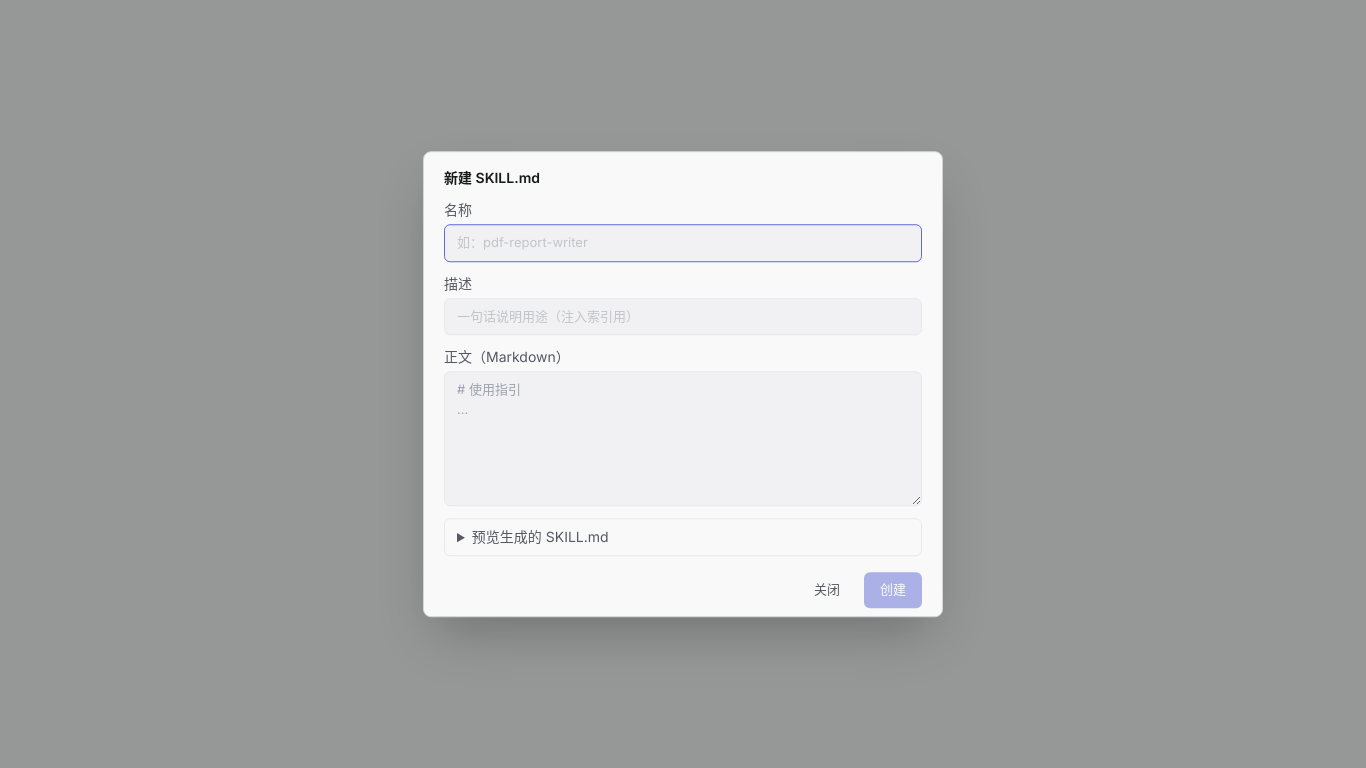
SkillCreateDialog › 填齐后提交调 createSkill，传参精确且成功提示保留展示
The image size is (1366, 768).
Step 1. Type "New One" into the field labelled "名称" → (683, 243), box [444,224,922,262]
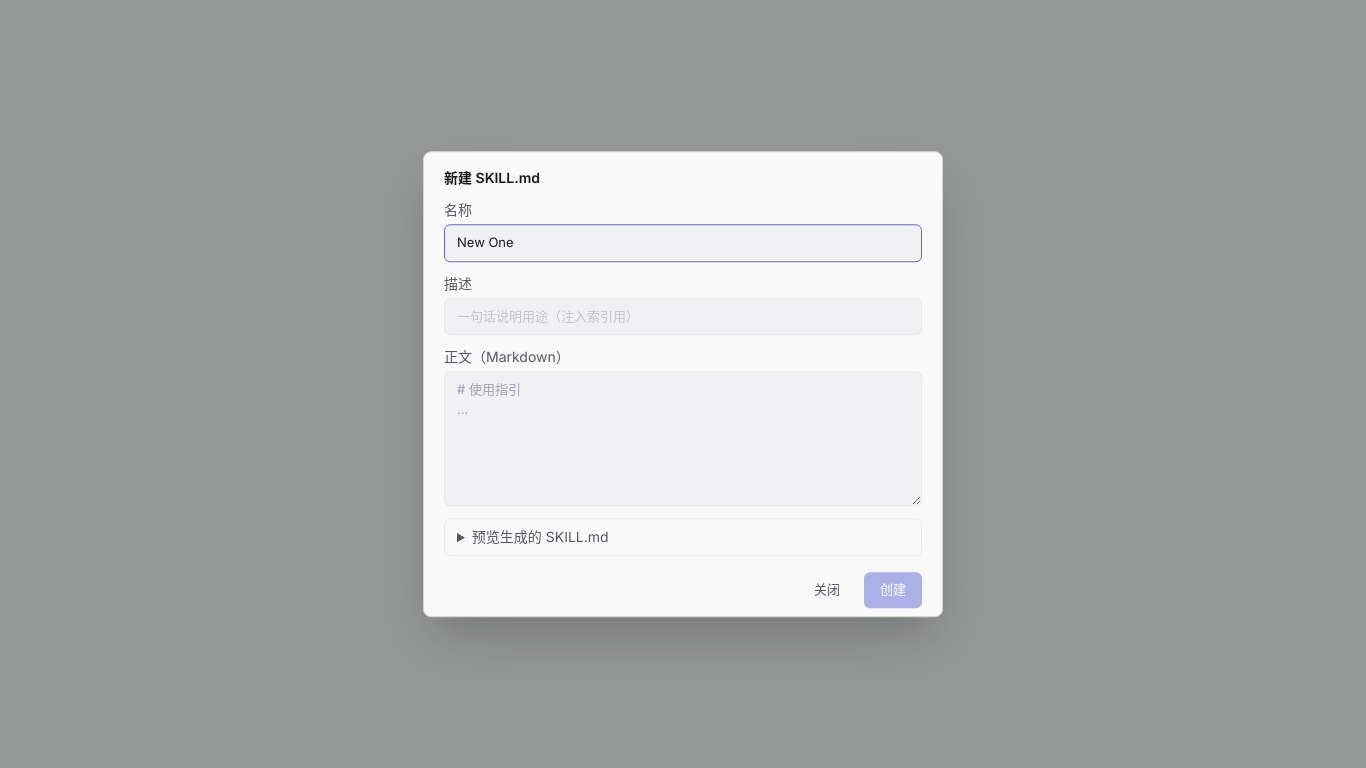
Step 2. Type "d" into the field labelled "描述" → (683, 317), box [444,298,922,335]
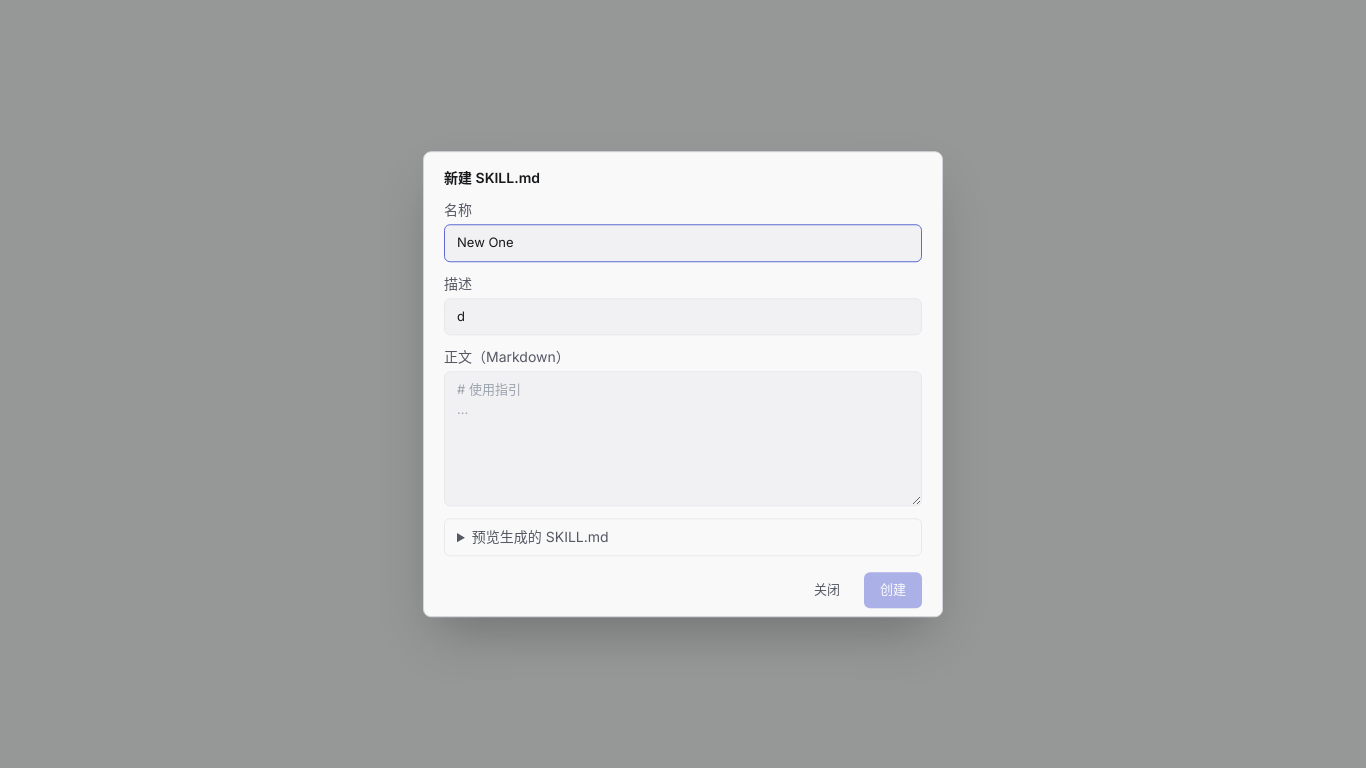
Step 3. Type "# 你好" into the text box labelled "正文" → (683, 439), box [444,371,922,506]
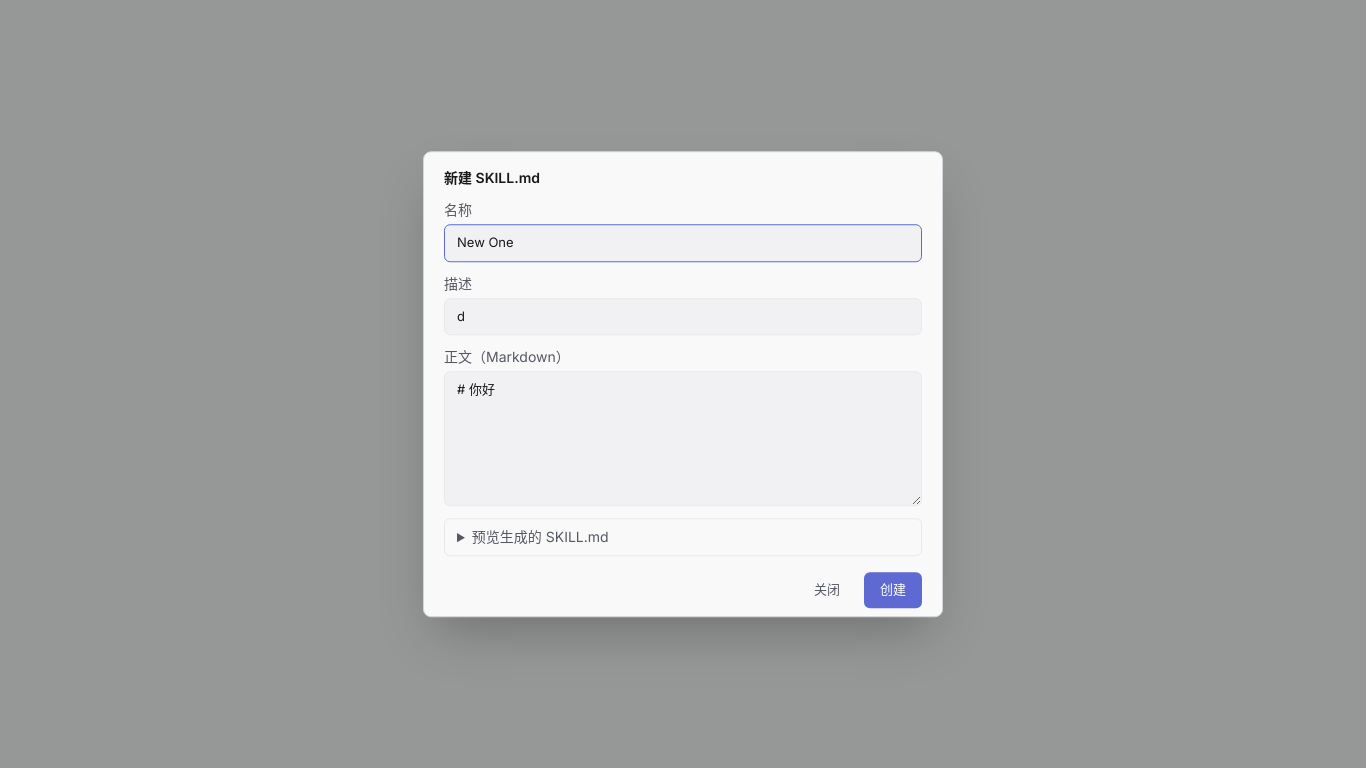
Step 4. Click the button "创建" → (893, 590), box [864,572,922,608]
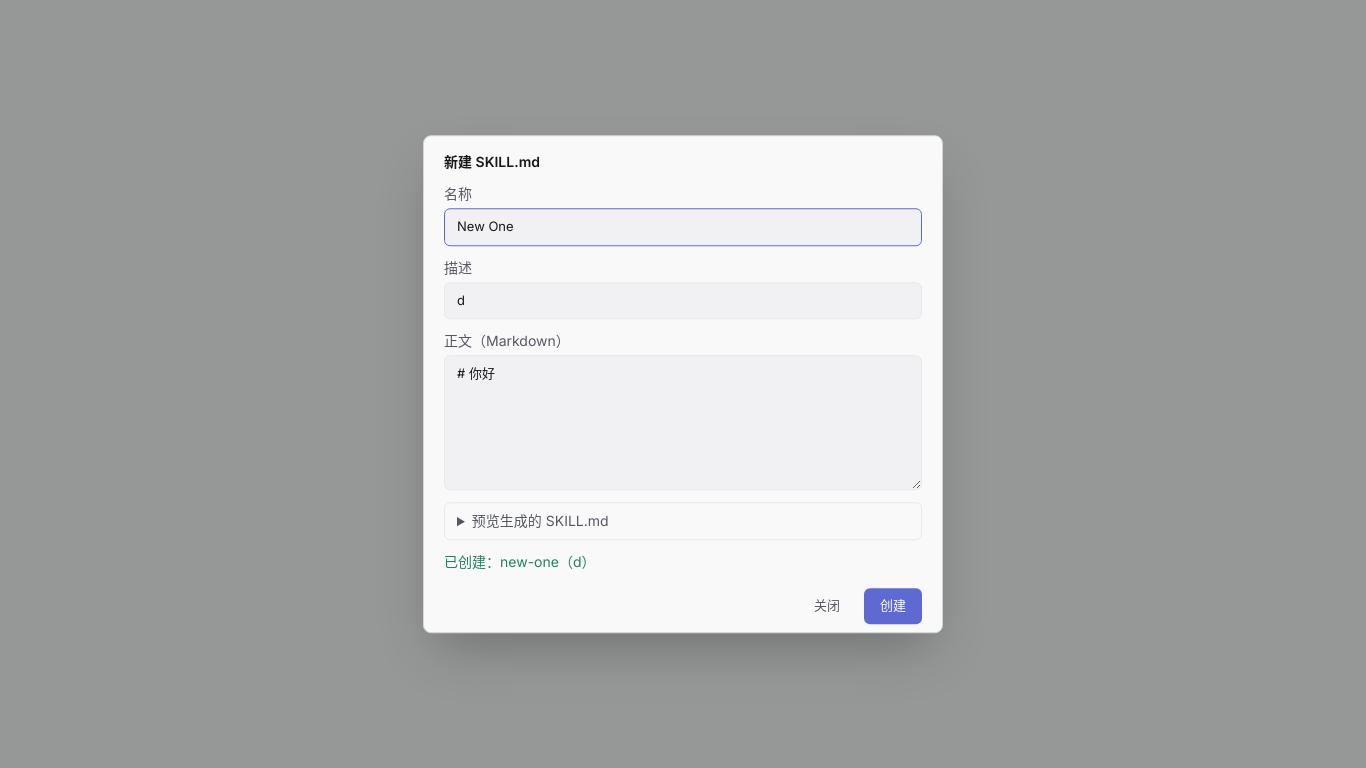
Now the text "已创建：new-one（d）" is shown, box [444,553,596,570]
